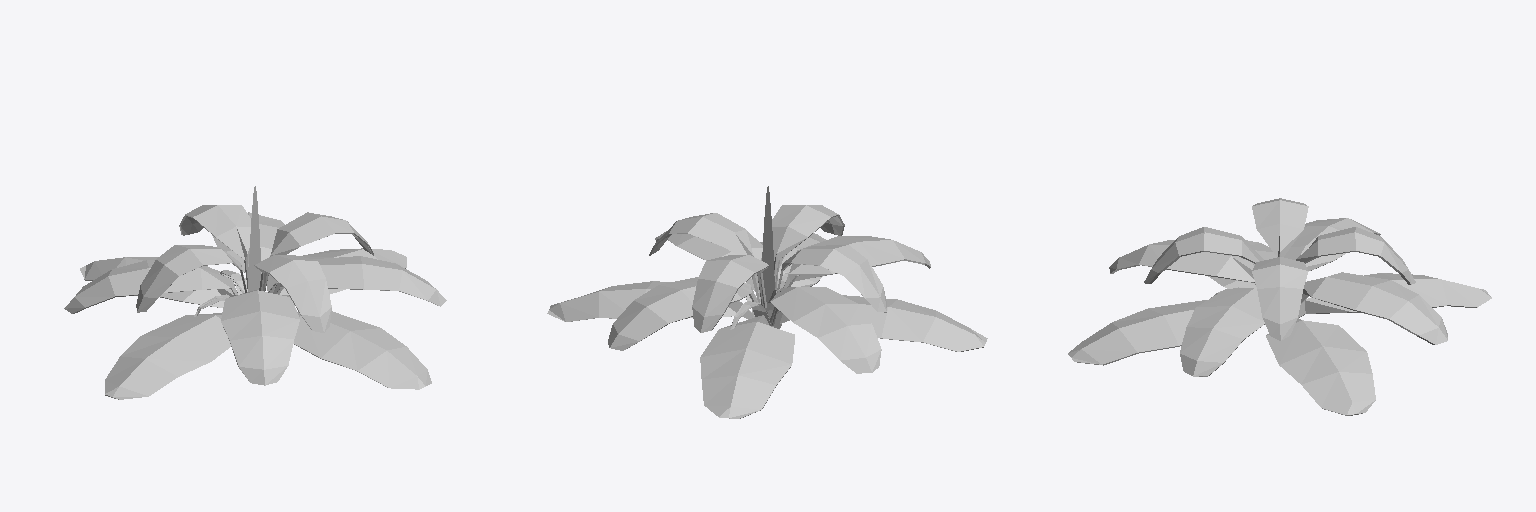
Rendered from plants_model1.obj.
3 renders of one model, left to right at view 1: azimuth 30°, elevation 25°; view 2: azimuth 150°, elevation 25°; view 3: azimuth 270°, elevation 25°, orthographic.
Visible parts, largest first — view 1: Plane_Plane.005, Plane.001; view 2: Plane_Plane.005, Plane.001; view 3: Plane_Plane.005.
Boxes of the visible parts, box(x1,y1,x2,y2) form: Plane_Plane.005: box(64, 205, 446, 399); Plane.001: box(248, 186, 260, 291); Plane_Plane.005: box(547, 205, 987, 418); Plane.001: box(762, 186, 774, 325); Plane_Plane.005: box(1068, 198, 1491, 415).
Size of the model in its own units: 9.06 by 3.41 by 9.07.